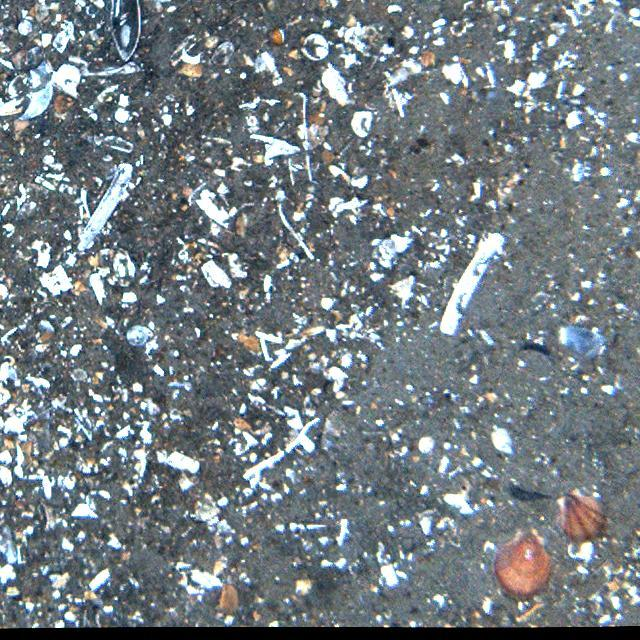scallop: (497, 523, 556, 595)
